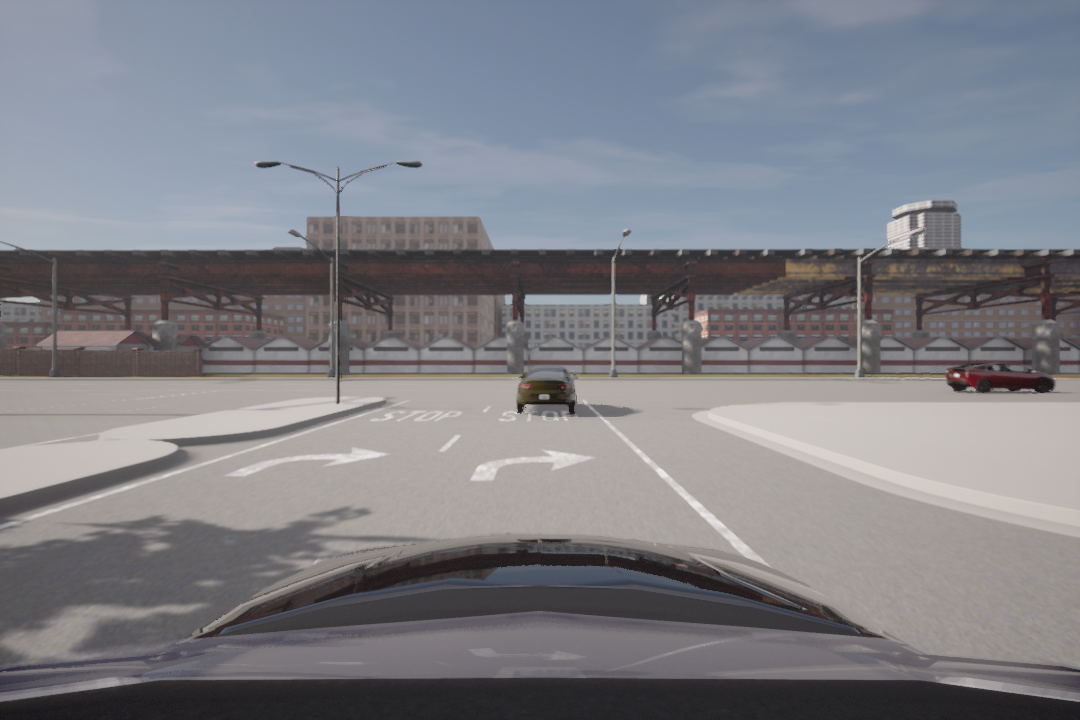RoadSign_right: (461, 444, 599, 494), (225, 448, 400, 484)
